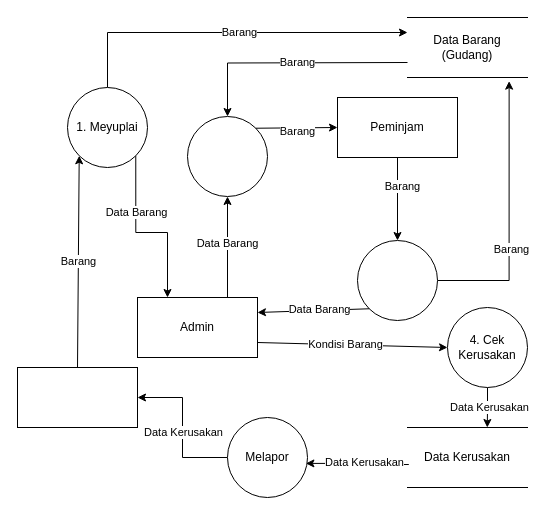
The diagram is 547 pixels wide and 515 high, and some of its shapes have lost their labels. The shapes that lost their labels are listed below. From the top down, each one's centre as x and y in pixels, then its label:
(x=227, y=156): 2. Peminjaman
(x=397, y=280): 3. Pengembalian
(x=77, y=397): Sekolah
